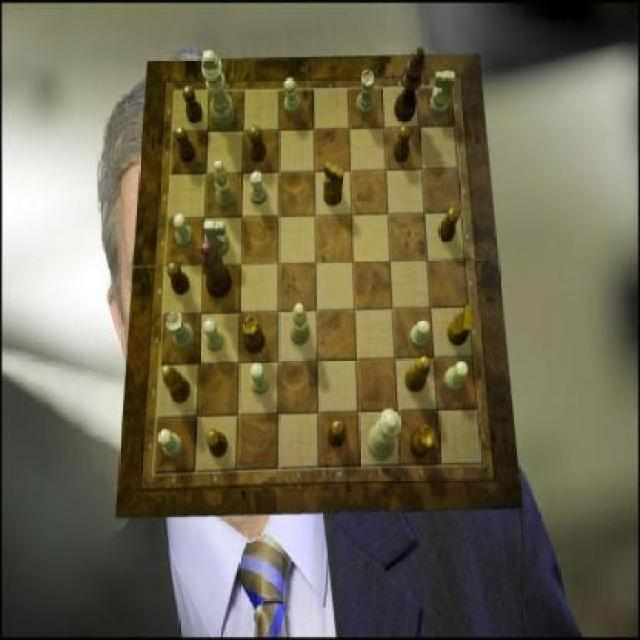bishop: (162, 366, 190, 405), (406, 357, 431, 393)
black-bishop: (394, 46, 426, 122)
black-king: (448, 305, 474, 346), (323, 160, 344, 206)
black-knight: (176, 126, 197, 164), (183, 86, 203, 125), (168, 262, 190, 296), (438, 208, 459, 242), (249, 125, 267, 162), (394, 125, 411, 163), (208, 431, 228, 458), (328, 420, 345, 448)
black-pawn: (197, 242, 232, 300)
black-queen: (410, 424, 436, 458), (243, 317, 266, 355)
black-rook: (213, 160, 234, 211), (291, 303, 311, 345)
white-bishop: (202, 49, 234, 127)
white-king: (431, 71, 455, 116), (205, 220, 229, 258)
white-knight: (444, 361, 468, 394), (174, 214, 194, 250), (159, 429, 183, 458), (204, 318, 224, 352), (284, 78, 300, 117), (250, 171, 268, 205), (251, 363, 270, 395), (411, 320, 432, 348)
white-pawn: (368, 409, 400, 462)
white-queen: (167, 312, 196, 351), (356, 71, 374, 118)
